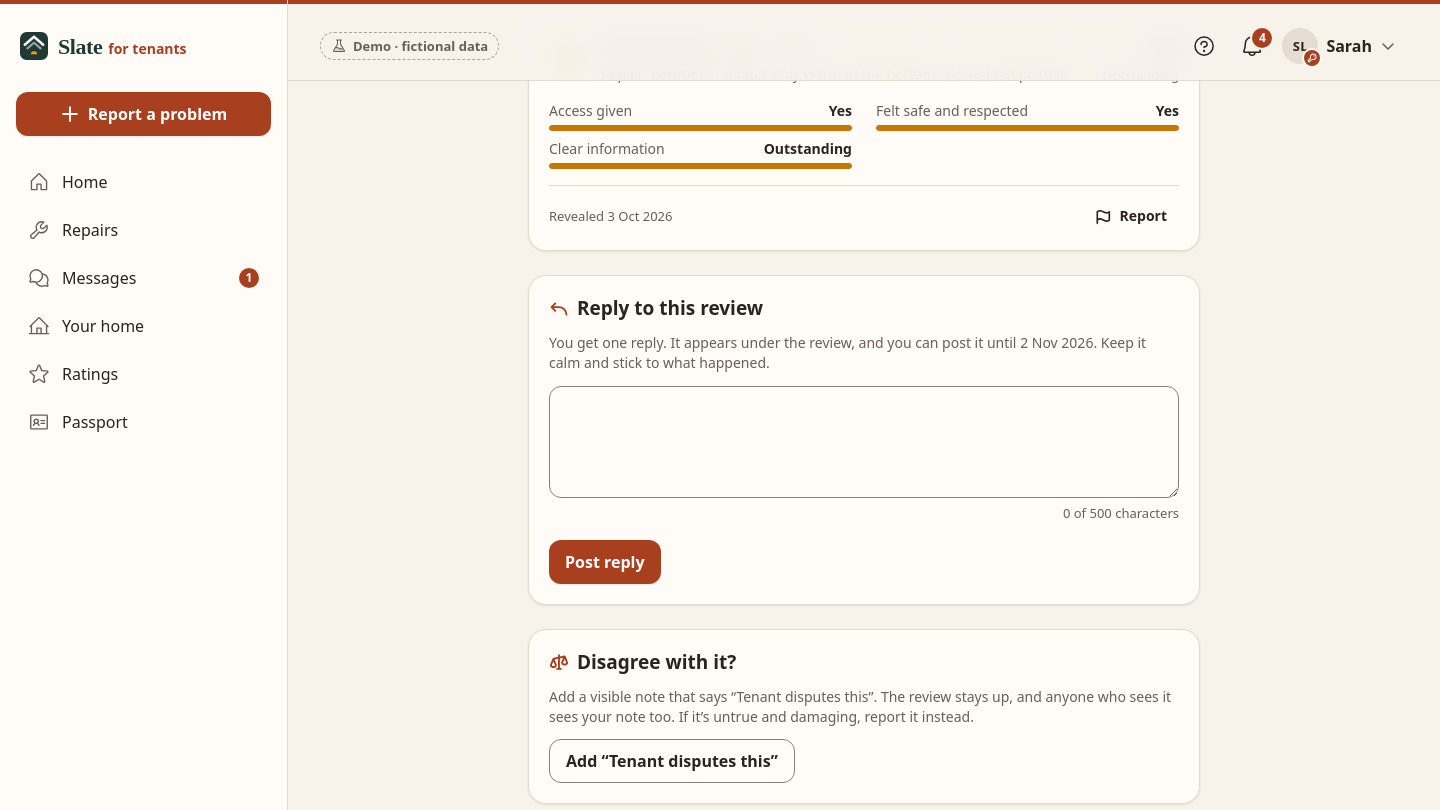
Scenario: replying to a review of the tenant › posts one public reply under a trade’s review, which stays private to the tenant
This screenshot has width=1440, height=810.
(page scrolled)
Click the text box: (864, 442) [549,386,1179,498]
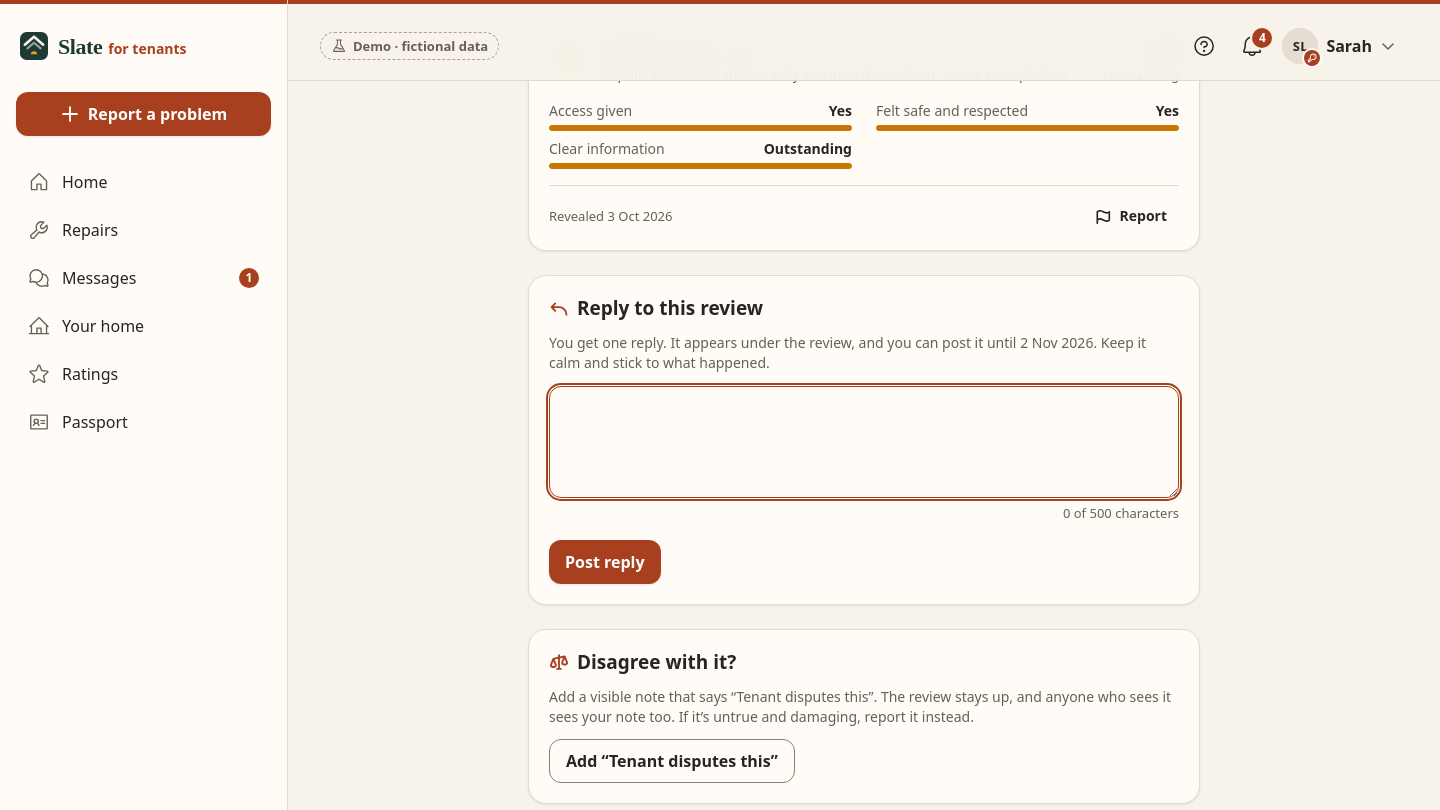
Type keys "Thanks for fixing it so quickly, the radiator has been fine since."
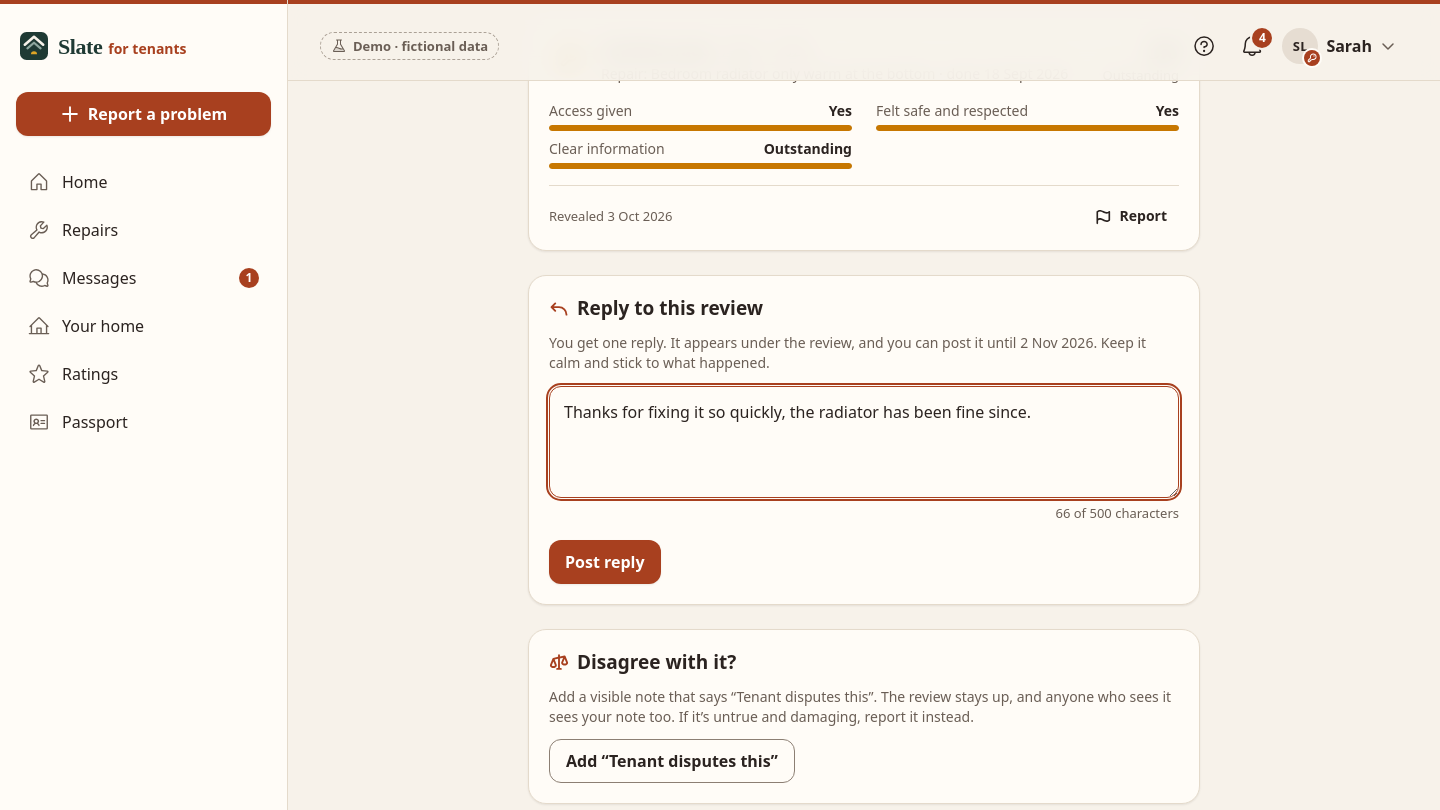
Click the button "Post reply": (605, 562) [549,540,660,584]
(page scrolled)
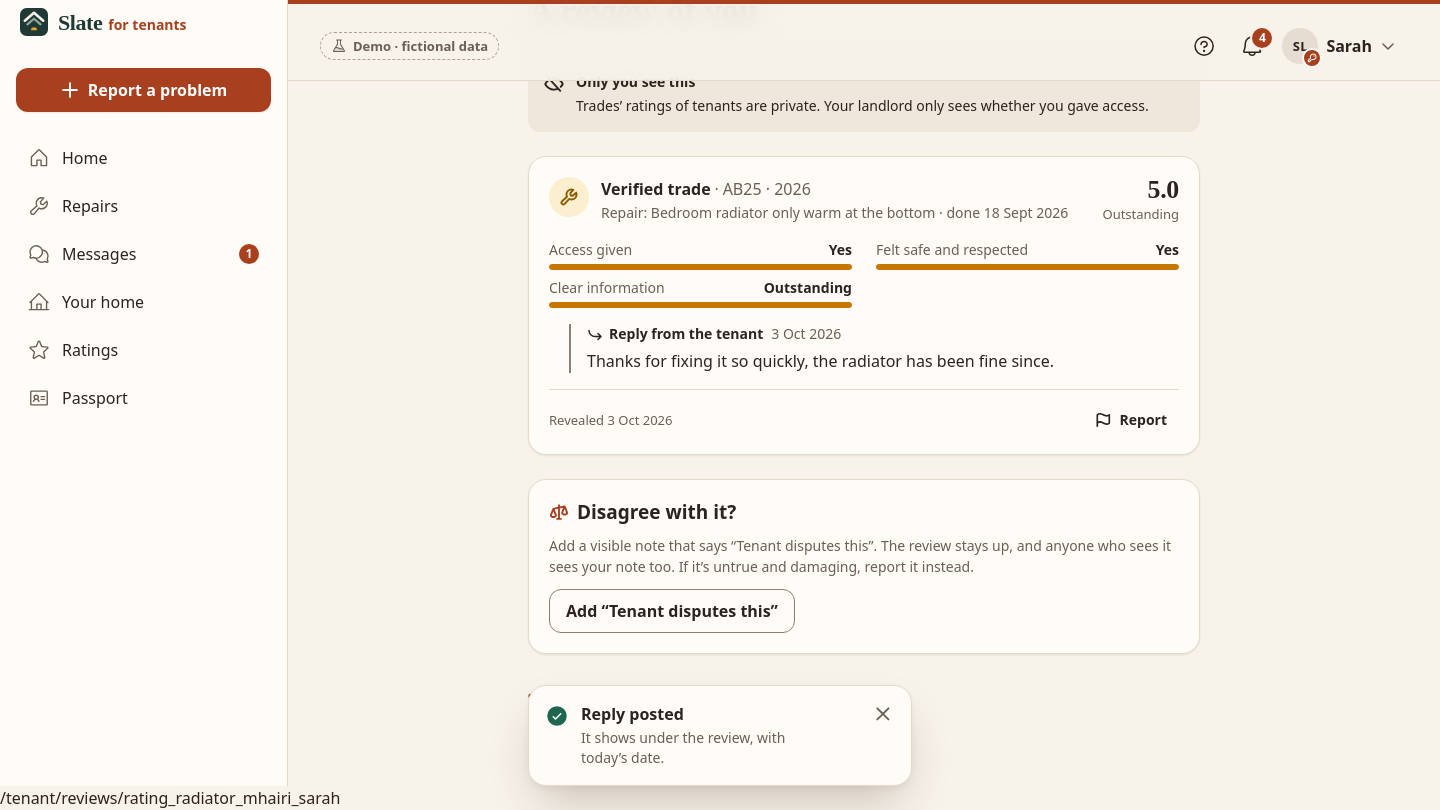
Check: the heading "Reply to this review" is gone
